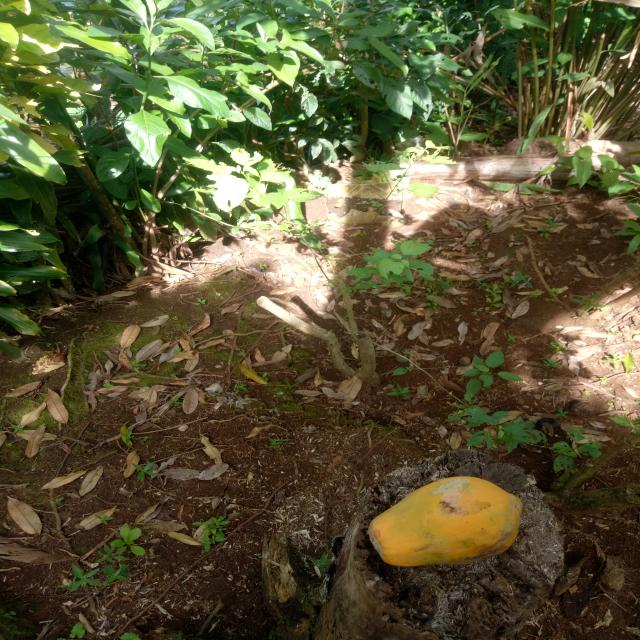Pepaya rippen: (364, 476, 537, 580)
